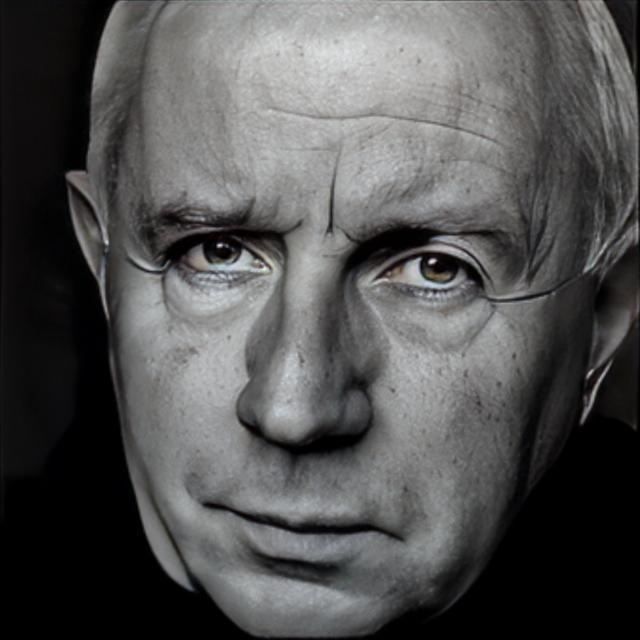anger: (103, 29, 575, 639)
